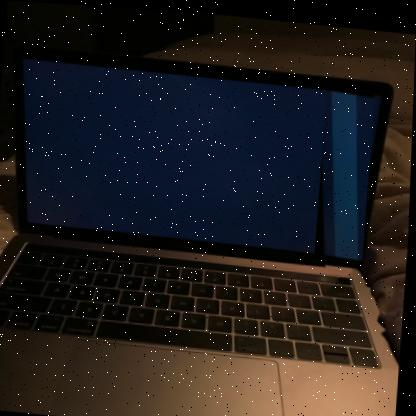fade: (316, 78, 376, 261)
